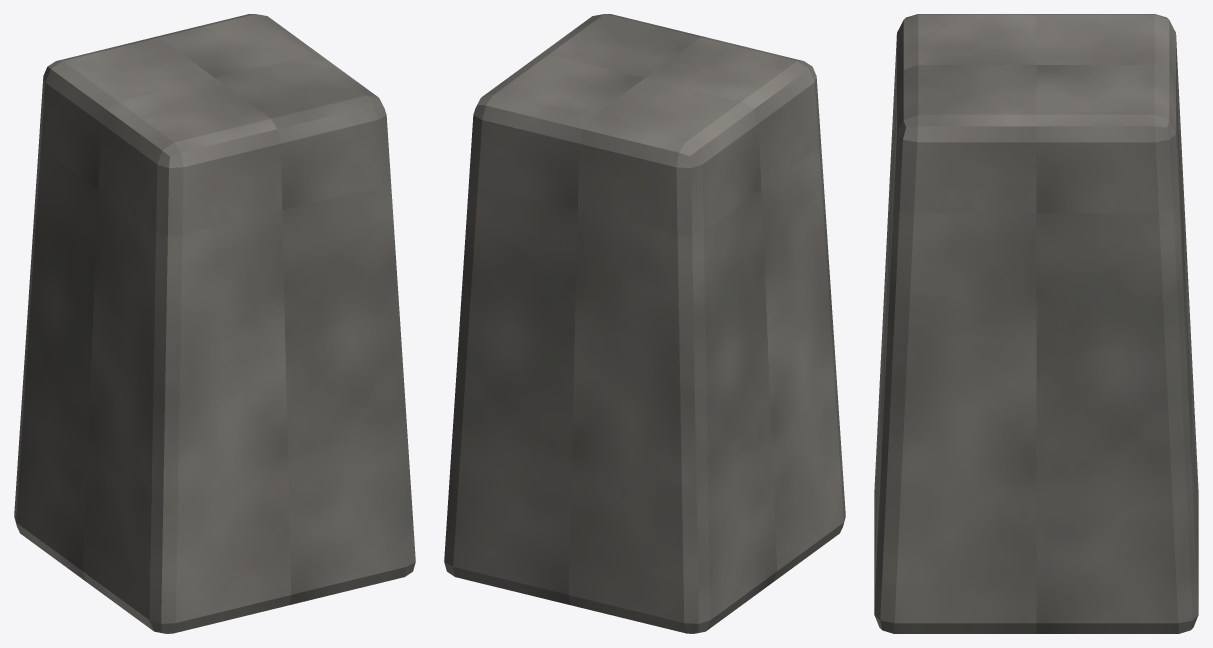
Rendered from Street_BlockR4_Pot0.obj.
3 views of the same model, side by side, from view 1: azimuth 30°, elevation 25°; view 2: azimuth 150°, elevation 25°; view 3: azimuth 270°, elevation 25° (orthographic). The views are drawn at different scales.
Size of the model in its own units: 0.3183 by 0.55 by 0.3183.
Materials: 1 (1 with a texture image).
